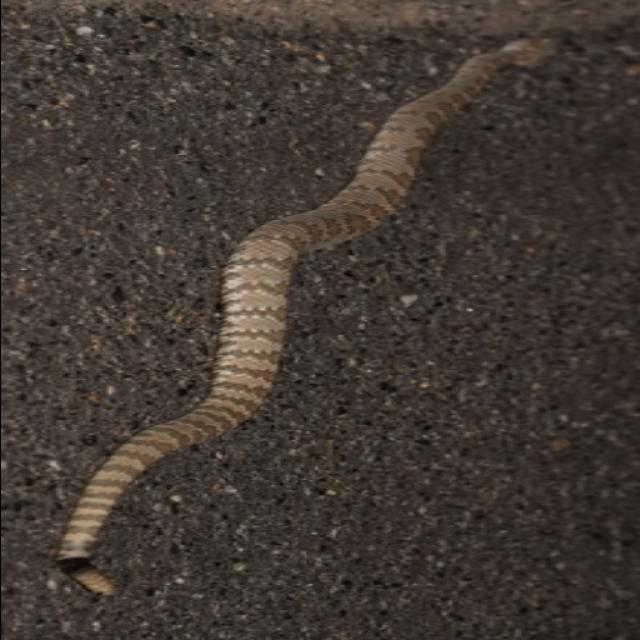snake: (50, 28, 552, 606)
